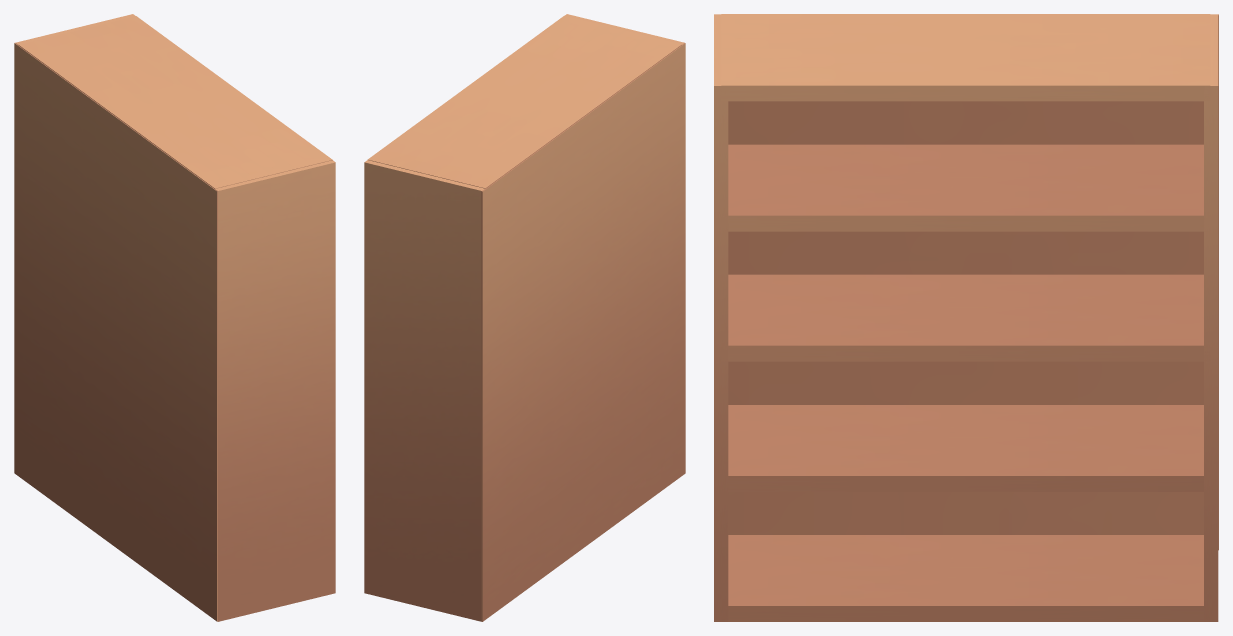
Rendered from Bookshelf.glb.
The picture shows the model from 3 angles, left to right: view 1: azimuth 30°, elevation 25°; view 2: azimuth 150°, elevation 25°; view 3: azimuth 270°, elevation 25°; orthographic projection. The views are drawn at different scales.
Visible parts, largest first — view 1: Bookshelf; view 2: Bookshelf; view 3: Bookshelf.
Boxes of the visible parts, bbox=[...] form: Bookshelf: bbox=[14, 14, 335, 621]; Bookshelf: bbox=[364, 14, 685, 621]; Bookshelf: bbox=[714, 14, 1218, 621].
Bounding box in the file's own units: 0.2607 × 0.9058 × 0.7724.
Materials: 1 (1 with a texture image).
